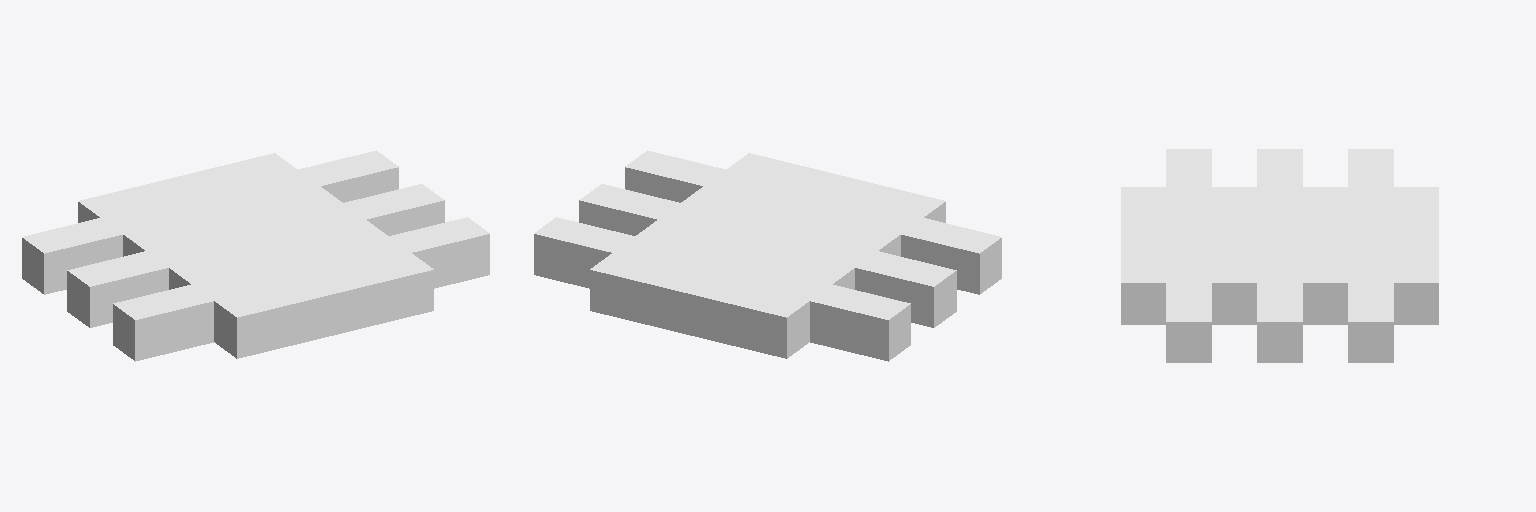
File: Skeleton_DownDie.obj
The picture shows the model from 3 angles: view 1: azimuth 30°, elevation 25°; view 2: azimuth 150°, elevation 25°; view 3: azimuth 270°, elevation 25°; orthographic projection.
Visible parts, largest first — view 1: object 1; view 2: object 1; view 3: object 1.
Boxes of the visible parts, <box> form: object 1: <box>22,150,489,361</box>; object 1: <box>534,150,1001,361</box>; object 1: <box>1121,149,1438,362</box>.
Bounding box in the file's own units: 0.9 × 0.1 × 0.7.